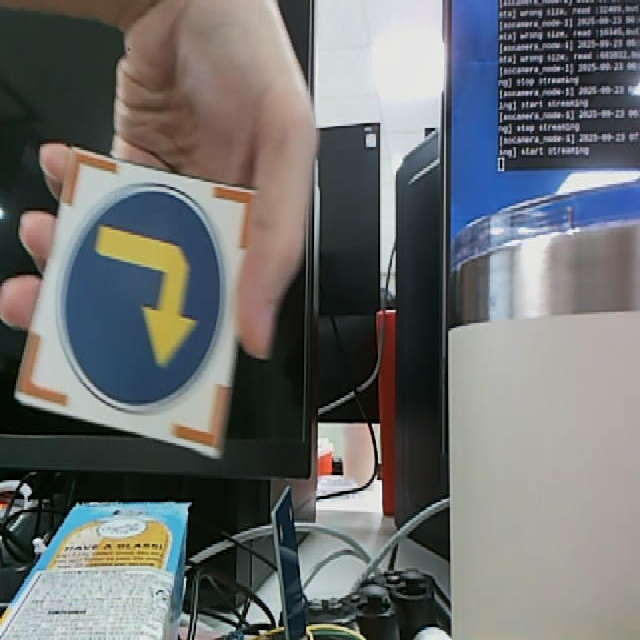right: (14, 145, 262, 461)
